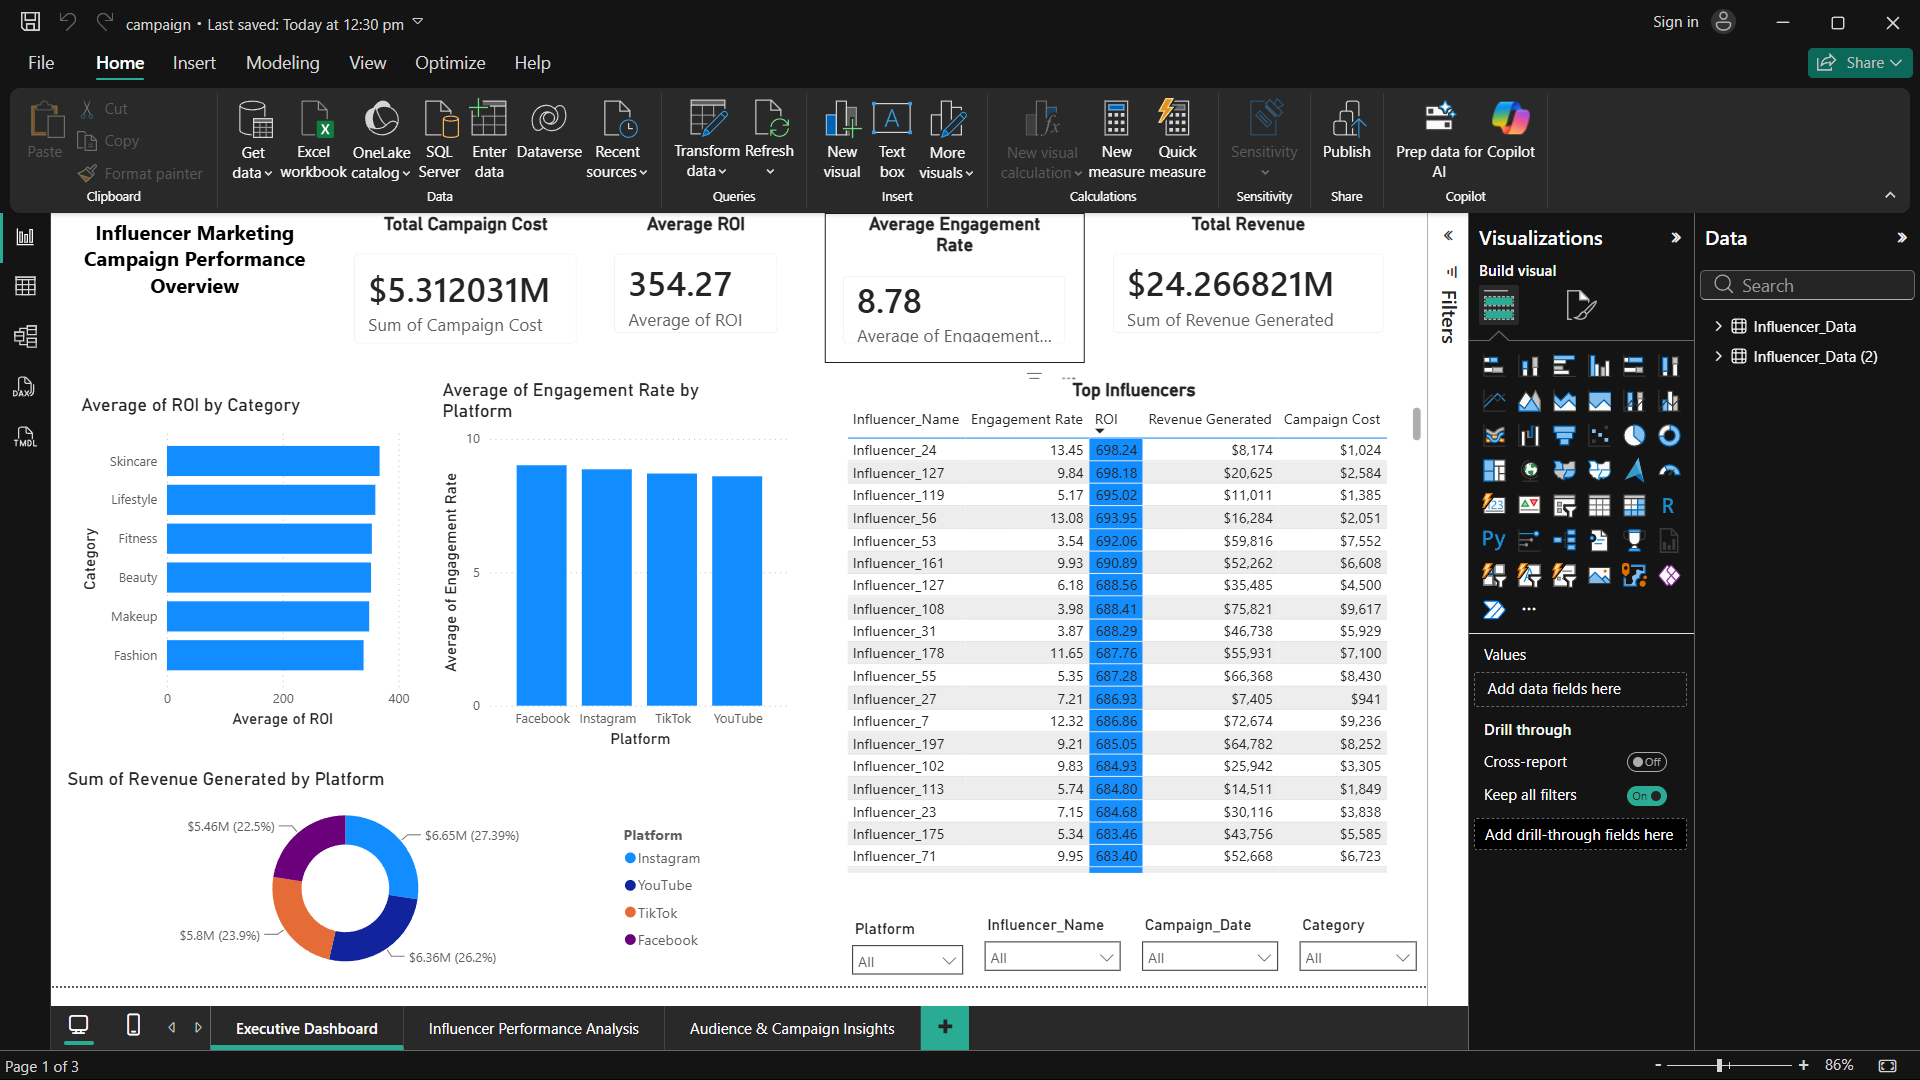

Layout of this report page (visuals, bound fields, positions):
{"tool":"powerbi","page":{"name":"Executive Dashboard","canvas":[1280,720],"ordinal":0},"visuals":[{"type":"cardVisual","title":"Total Revenue","fields":{"Data":["Sum(Influencer_Data.Revenue_Generated)"]},"box":[970.9,0,286,129.1],"z":0},{"type":"cardVisual","title":"Average ROI","fields":{"Data":["Avg(Influencer_Data.ROI)"]},"box":[507,0,186,129.1],"z":1000},{"type":"cardVisual","title":"Average Engagement Rate","fields":{"Data":["Avg(Influencer_Data.Engagement Rate)"]},"box":[719.8,0,241.9,139.5],"z":2000},{"type":"cardVisual","title":"Total Campaign Cost","fields":{"Data":["Sum(Influencer_Data.Campaign_Cost)"]},"box":[265.1,0,241.9,139.5],"z":3000},{"type":"clusteredBarChart","fields":{"Category":["Influencer_Data.Category"],"Y":["Avg(Influencer_Data.ROI)"]},"box":[23.3,168.6,315.1,315.1],"z":4000},{"type":"clusteredColumnChart","fields":{"Category":["Influencer_Data.Platform"],"Y":["Avg(Influencer_Data.Engagement Rate)"]},"box":[359.3,154.7,333.7,347.7],"z":5000},{"type":"tableEx","title":"Top Influencers","fields":{"Values":["Influencer_Data.Influencer_Name","Influencer_Data.Engagement Rate","Influencer_Data.ROI","Sum(Influencer_Data.Revenue_Generated)","Sum(Influencer_Data.Campaign_Cost)"]},"box":[734.9,154.7,545.4,464],"z":6000},{"type":"slicer","fields":{"Values":["Influencer_Data.Category"]},"box":[1151.2,648.8,129.1,70.9],"z":7000},{"type":"slicer","fields":{"Values":["Influencer_Data.Platform"]},"box":[734.9,652.3,123.3,64],"z":8000},{"type":"slicer","fields":{"Values":["Influencer_Data.Influencer_Name"]},"box":[858.1,648.8,146.5,64],"z":9000},{"type":"slicer","fields":{"Values":["Influencer_Data.Campaign_Date"]},"box":[1004.7,648.8,146.5,64],"z":10000},{"type":"donutChart","fields":{"Category":["Influencer_Data.Platform"],"Y":["Sum(Influencer_Data.Revenue Generated)"]},"box":[10.5,516.3,608.1,203.5],"z":11000},{"type":"textbox","box":[0,0,267.4,90.7],"z":12000}]}

Visuals, with their boxes on the page's 1280x720 design canvas (x1, y1, x2, y2). These are canvas units, not pixel positions in the 1920x1080 screenshot, which may show the page scaled, cropped or inside an application window:
"Total Revenue" cardVisual: (971, 0, 1257, 129)
"Average ROI" cardVisual: (507, 0, 693, 129)
"Average Engagement Rate" cardVisual: (720, 0, 962, 140)
"Total Campaign Cost" cardVisual: (265, 0, 507, 140)
clusteredBarChart - Influencer_Data.Category x Avg(Influencer_Data.ROI): (23, 169, 338, 484)
clusteredColumnChart - Influencer_Data.Platform x Avg(Influencer_Data.Engagement Rate): (359, 155, 693, 502)
"Top Influencers" tableEx: (735, 155, 1280, 619)
slicer - Influencer_Data.Category: (1151, 649, 1280, 720)
slicer - Influencer_Data.Platform: (735, 652, 858, 716)
slicer - Influencer_Data.Influencer_Name: (858, 649, 1005, 713)
slicer - Influencer_Data.Campaign_Date: (1005, 649, 1151, 713)
donutChart - Influencer_Data.Platform x Sum(Influencer_Data.Revenue Generated): (10, 516, 619, 720)
textbox: (0, 0, 267, 91)
